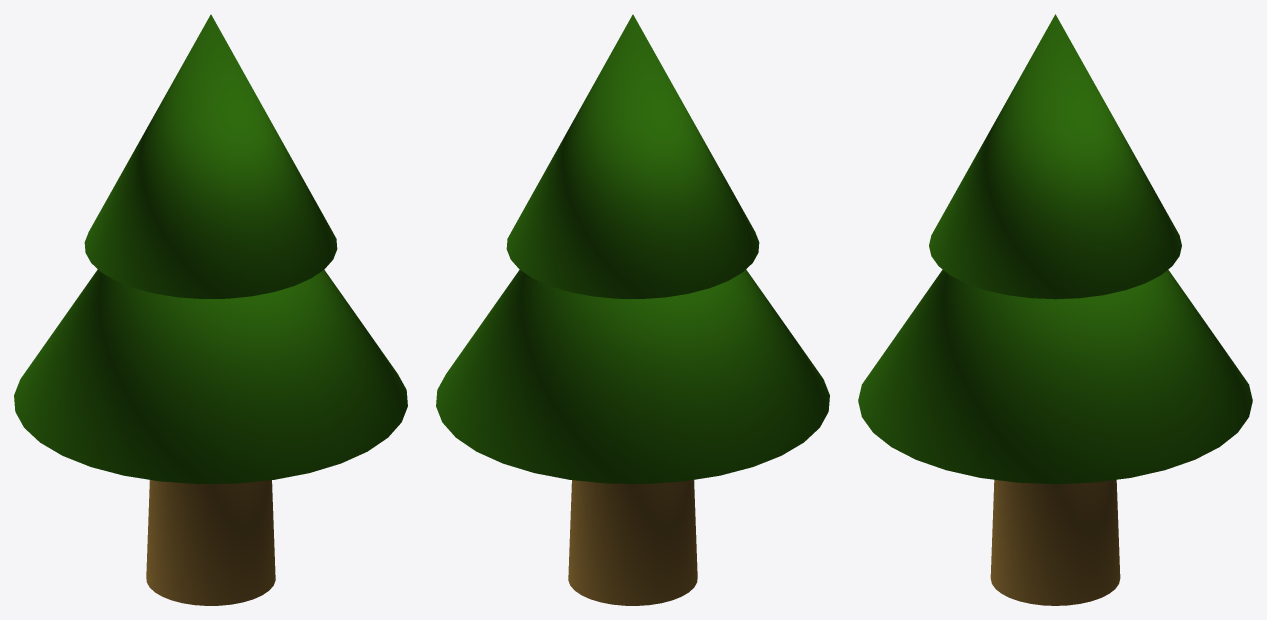
The model's file is Tree.fbx.
3 views of the same model, side by side, from view 1: azimuth 30°, elevation 25°; view 2: azimuth 150°, elevation 25°; view 3: azimuth 270°, elevation 25° (orthographic).
Parts seen in each view (by area): view 1: Circle; view 2: Circle; view 3: Circle.
Part boxes in pixels (x1=…): Circle: x1=14, y1=14, x2=407, y2=605; Circle: x1=436, y1=14, x2=829, y2=605; Circle: x1=858, y1=14, x2=1252, y2=605.
Bounding box in the file's own units: 609 × 961 × 609.
